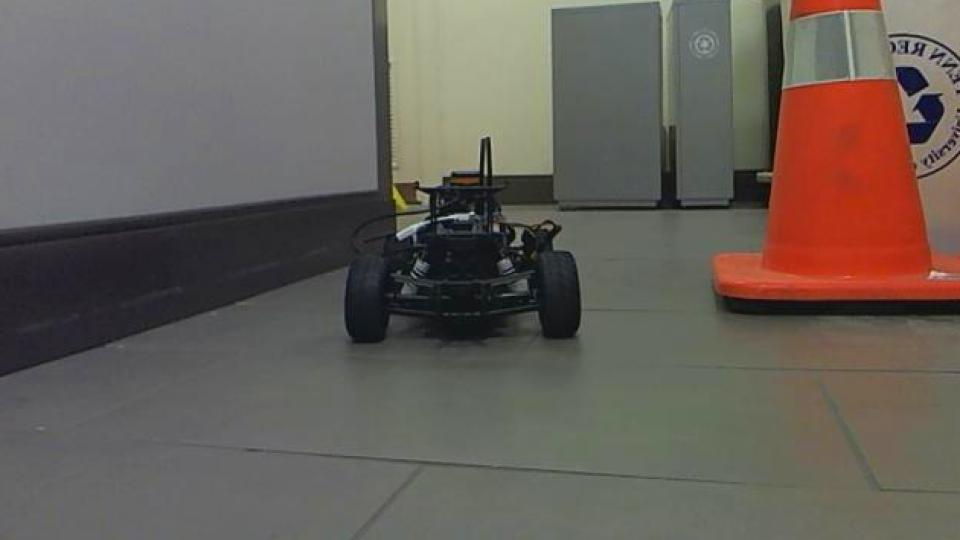car: (341, 134, 587, 346)
